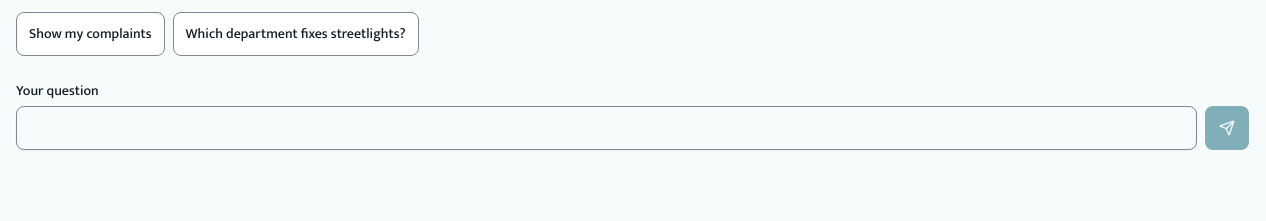
Scenario: Help chat › sends a suggestion with one tap
The image size is (1266, 221).
What coordinates should you click on to do the following:
click the button "Show my complaints"
I would click on:
 (90, 34)
Its box is [16,12,165,56].
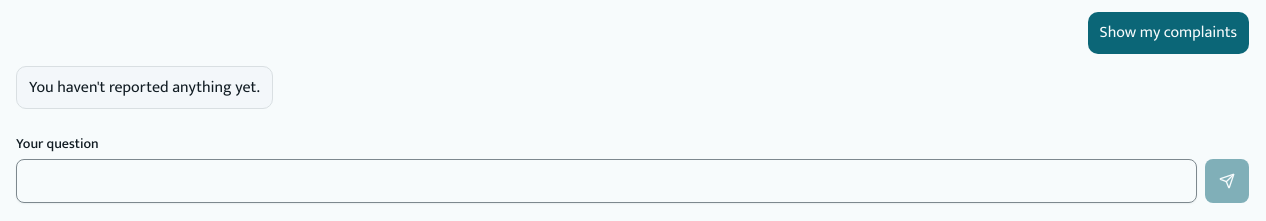
Result: the text "You haven't reported anything yet." is shown at [29,75,260,100]
